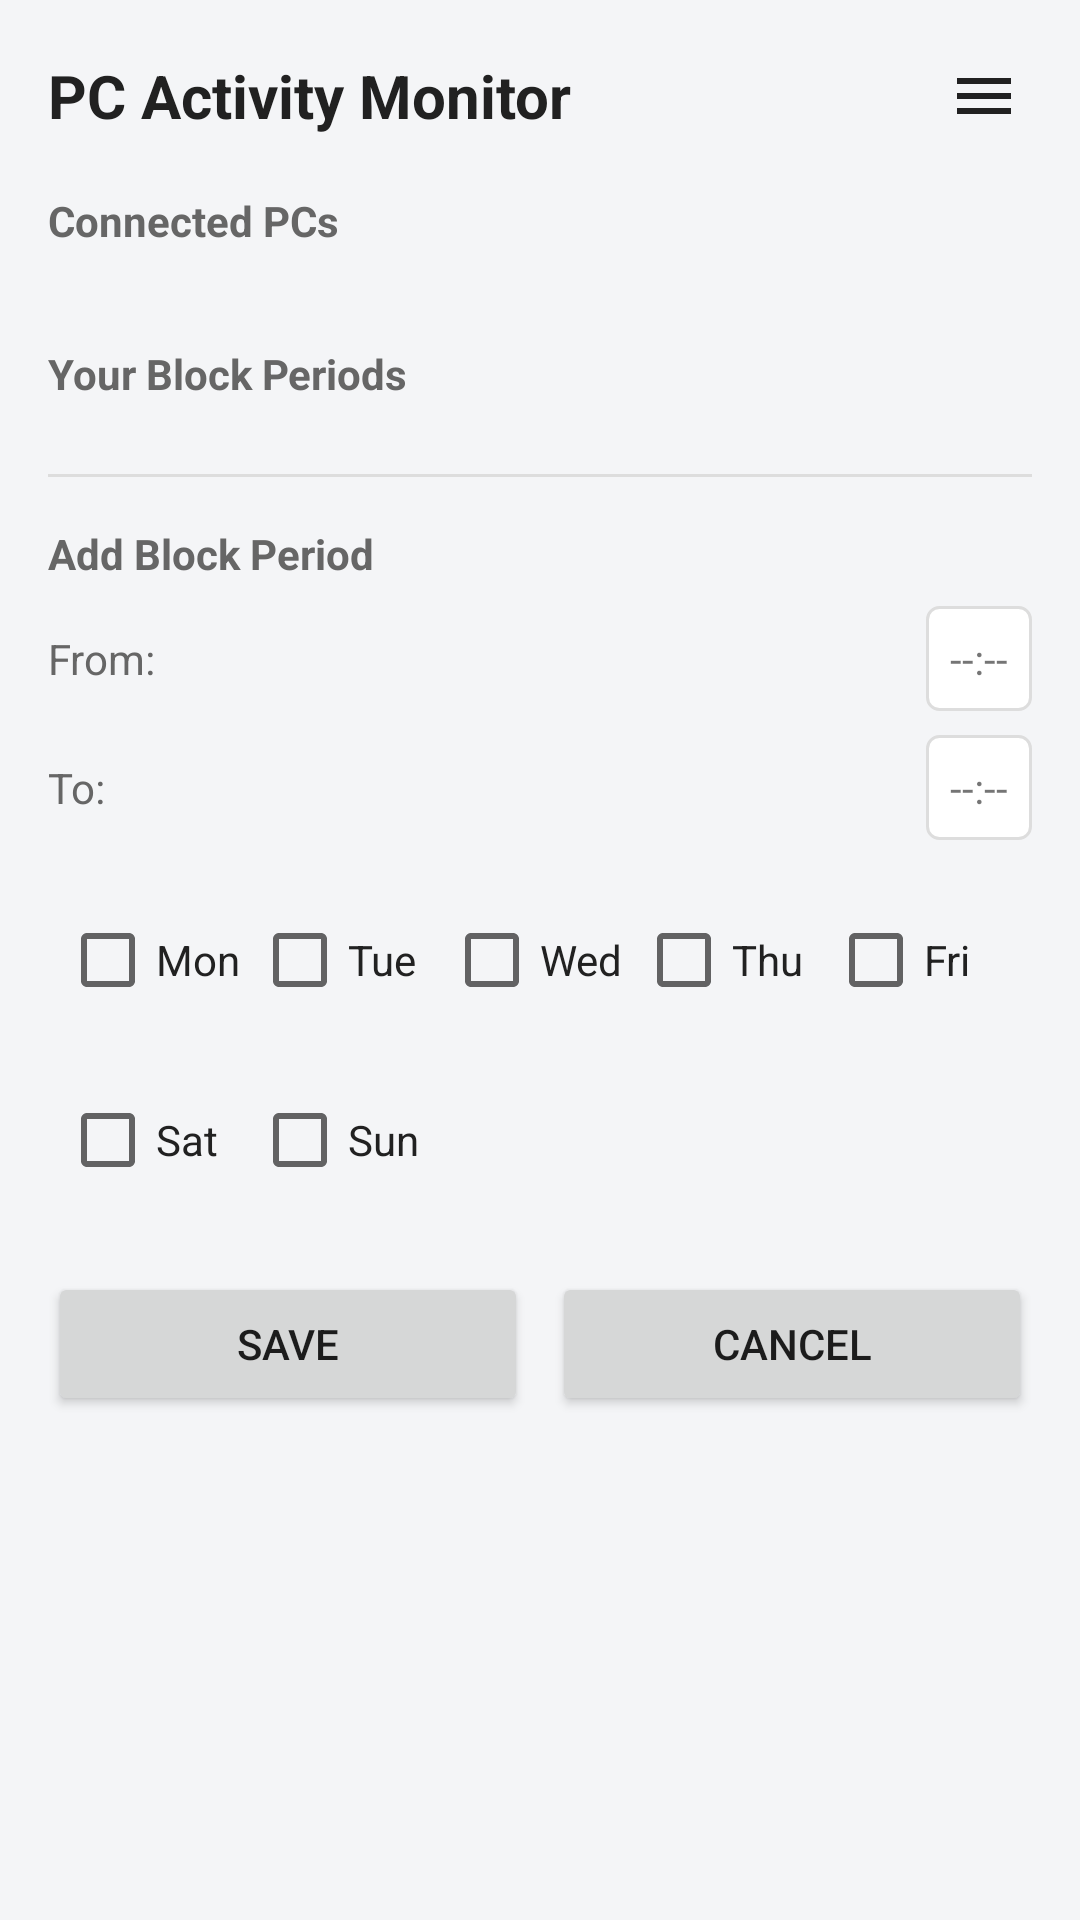

Where to tap for icons on this 1080×1920 app screen, as point (x, y):
Menu: point (984, 96)
